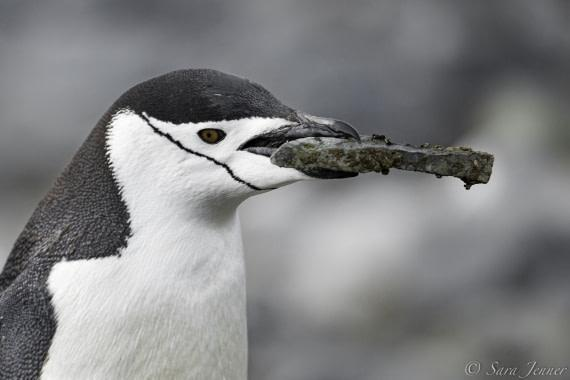Penguin: (0, 69, 358, 379)
